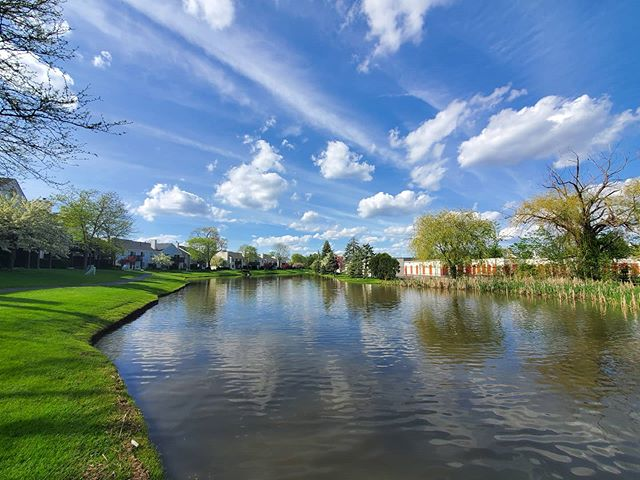grass: (1, 268, 159, 480)
river: (159, 273, 640, 480)
sky: (102, 1, 640, 215)
tree: (518, 165, 640, 281), (56, 184, 142, 269), (413, 208, 504, 282)
